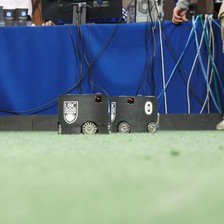robot: (56, 91, 109, 133), (108, 91, 158, 133)
